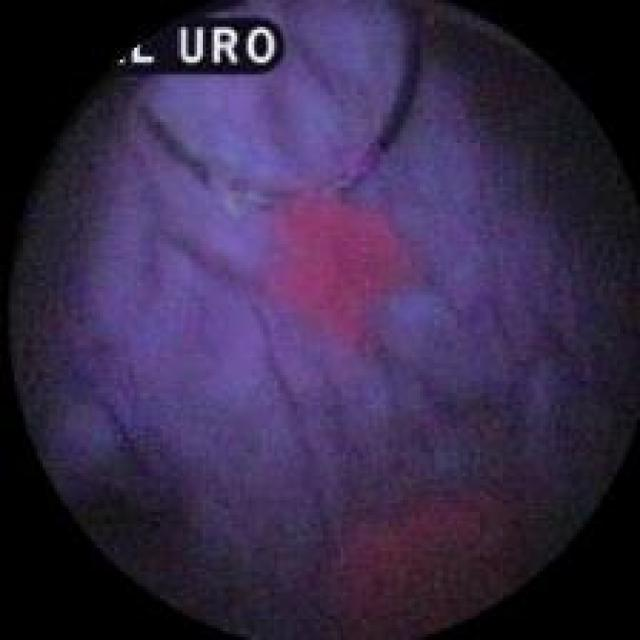color misalignment: (95, 16, 286, 78)
contrast: (7, 58, 146, 402), (470, 17, 615, 234), (165, 542, 567, 619), (552, 289, 629, 532), (71, 471, 188, 596)
instrument: (103, 9, 443, 206)
